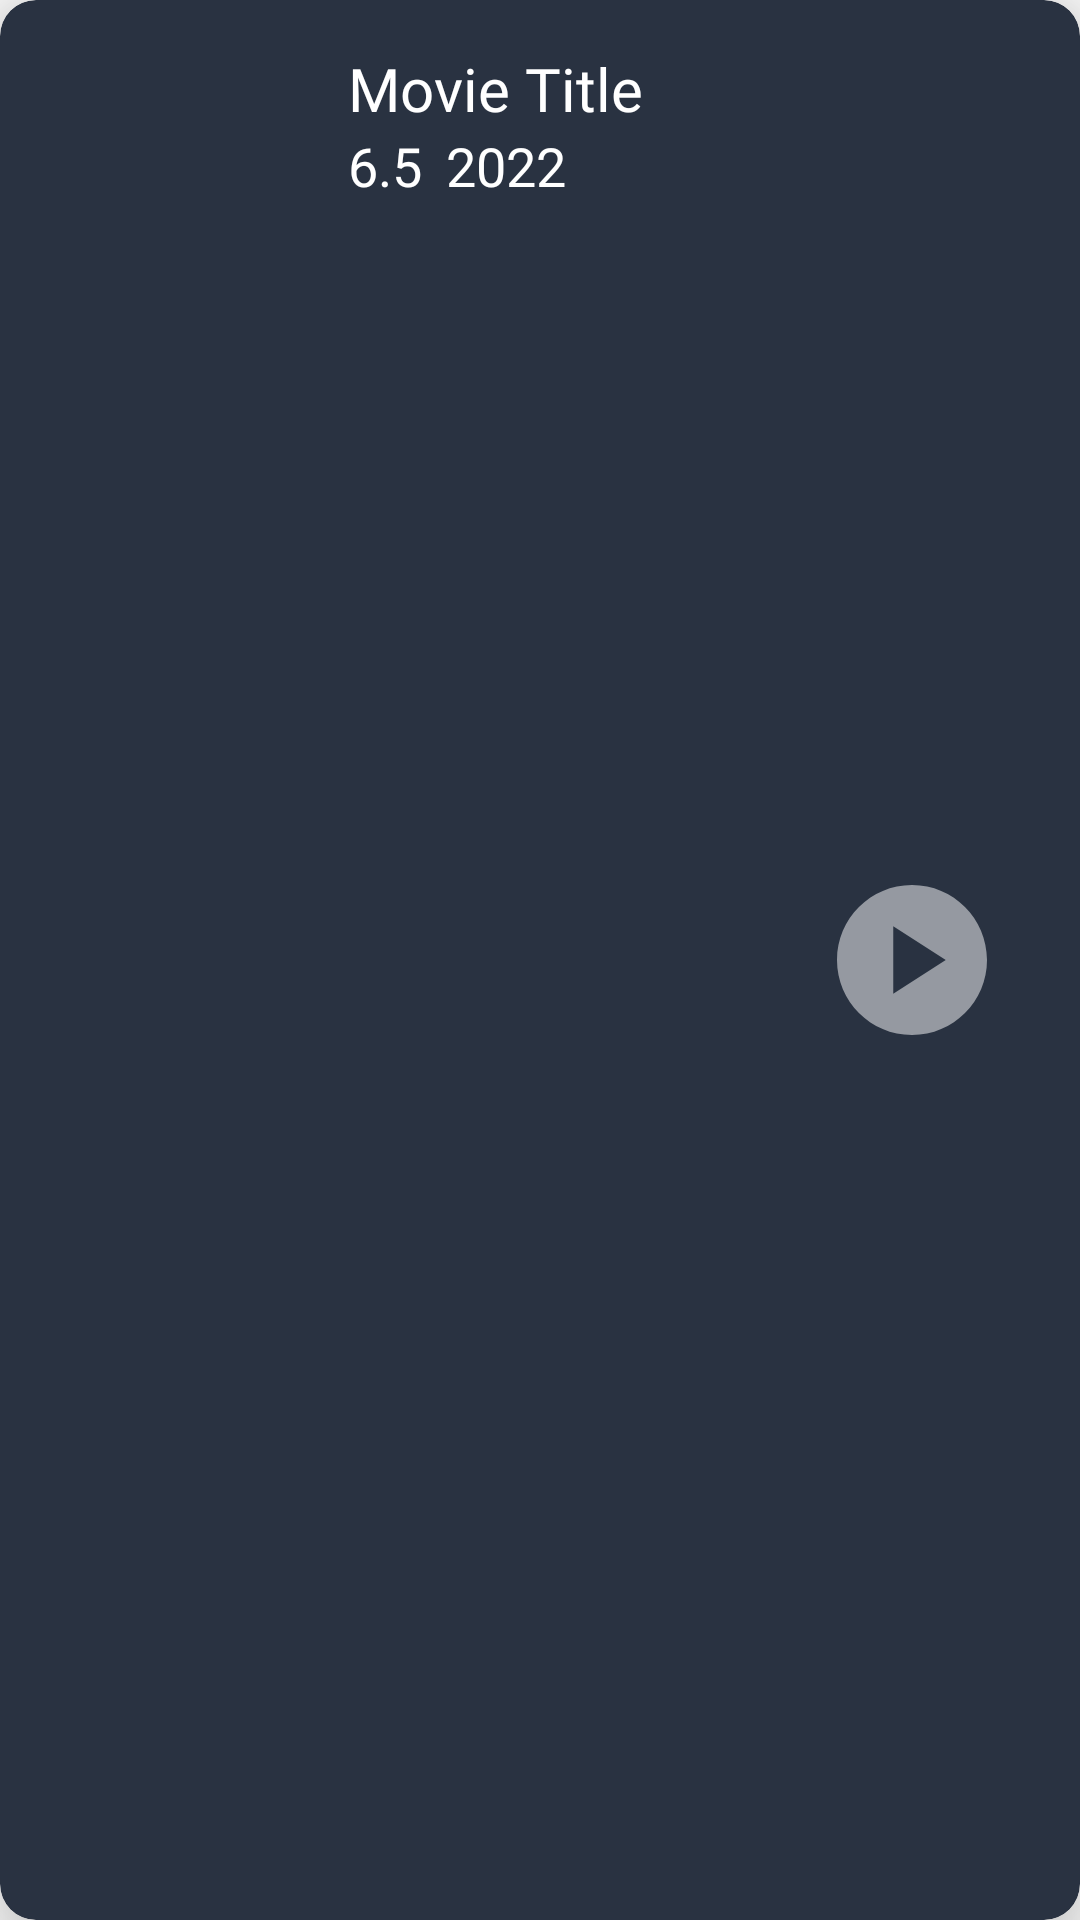

Where icons sit on this 1080*1920 app screen, as BBox(x1, y1, x2, y2):
Play: BBox(837, 885, 987, 1035)
